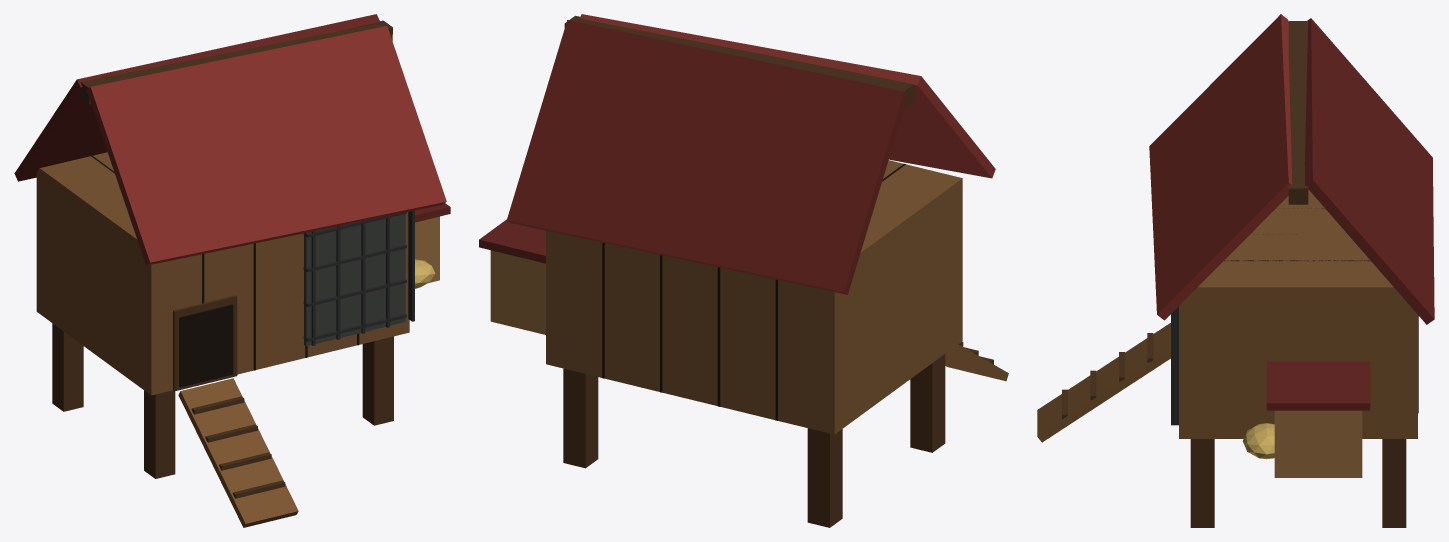
File: chicken_coop.obj
The picture shows the model from 3 angles, left to right: view 1: azimuth 30°, elevation 25°; view 2: azimuth 150°, elevation 25°; view 3: azimuth 270°, elevation 25°; orthographic projection. The views are drawn at different scales.
Parts seen in each view (by area): view 1: geometry_27, geometry_4, geometry_9, geometry_21, geometry_26, geometry_19, geometry_1, geometry_3, geometry_0, geometry_28, geometry_20, geometry_29 (+4 smaller); view 2: geometry_26, geometry_4, geometry_27, geometry_29, geometry_0, geometry_2, geometry_1, geometry_28, geometry_30, geometry_21; view 3: geometry_4, geometry_27, geometry_26, geometry_29, geometry_30, geometry_21, geometry_28, geometry_2, geometry_3, geometry_31, geometry_14.
Part boxes in pixels (<box>): geometry_27: <box>86,26,446,265</box>; geometry_4: <box>36,152,409,395</box>; geometry_9: <box>304,214,405,346</box>; geometry_21: <box>178,378,298,527</box>; geometry_26: <box>14,14,379,181</box>; geometry_19: <box>179,304,233,387</box>; geometry_1: <box>144,390,175,478</box>; geometry_3: <box>362,336,393,425</box>; geometry_0: <box>52,323,83,411</box>; geometry_28: <box>79,20,392,104</box>; geometry_20: <box>173,295,237,391</box>; geometry_29: <box>415,216,439,283</box>; geometry_26: <box>507,20,908,294</box>; geometry_4: <box>546,160,962,434</box>; geometry_27: <box>580,14,995,178</box>; geometry_29: <box>490,250,545,334</box>; geometry_0: <box>807,428,842,527</box>; geometry_2: <box>563,368,598,468</box>; geometry_1: <box>910,354,945,452</box>; geometry_28: <box>564,15,914,109</box>; geometry_30: <box>479,219,545,263</box>; geometry_21: <box>945,344,1008,381</box>; geometry_4: <box>1179,189,1417,438</box>; geometry_27: <box>1149,14,1292,320</box>; geometry_26: <box>1304,18,1434,324</box>; geometry_29: <box>1274,410,1362,477</box>; geometry_30: <box>1266,361,1370,410</box>; geometry_21: <box>1037,323,1170,442</box>; geometry_28: <box>1288,21,1308,204</box>; geometry_2: <box>1382,439,1406,527</box>; geometry_3: <box>1190,439,1214,527</box>; geometry_31: <box>1242,423,1274,459</box>; geometry_14: <box>1171,306,1178,425</box>.
Size of the model in its own units: 1.08 by 1.06 by 0.996.
